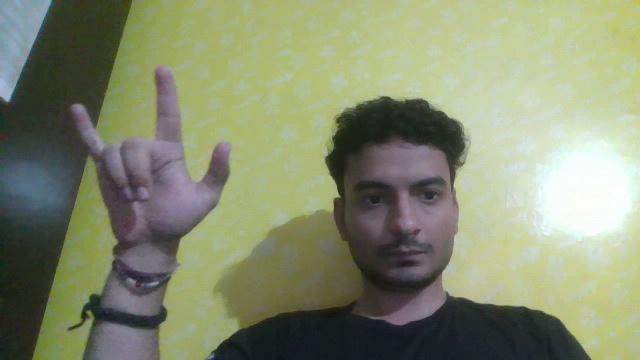Loveyou: (54, 65, 288, 249)
